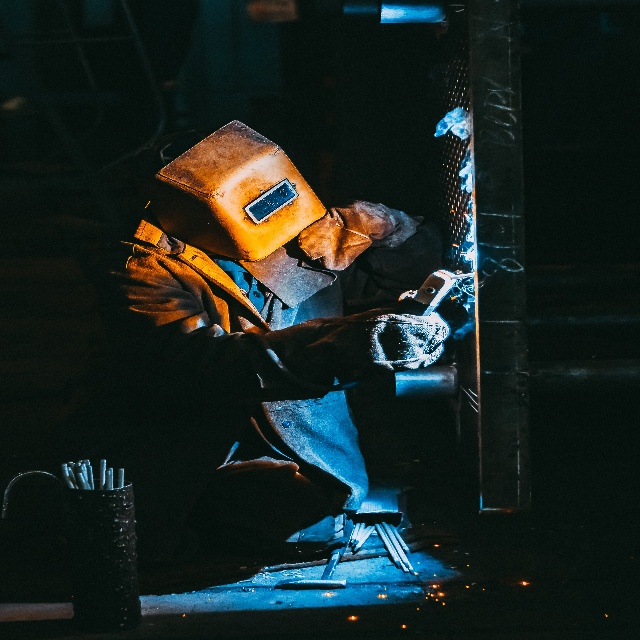Guantes: (265, 303, 451, 390), (298, 202, 394, 272)
